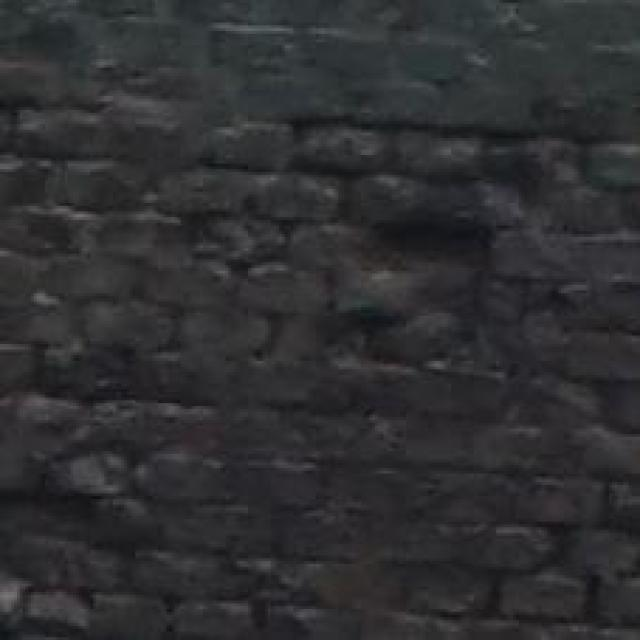Crack: (139, 73, 640, 468)
